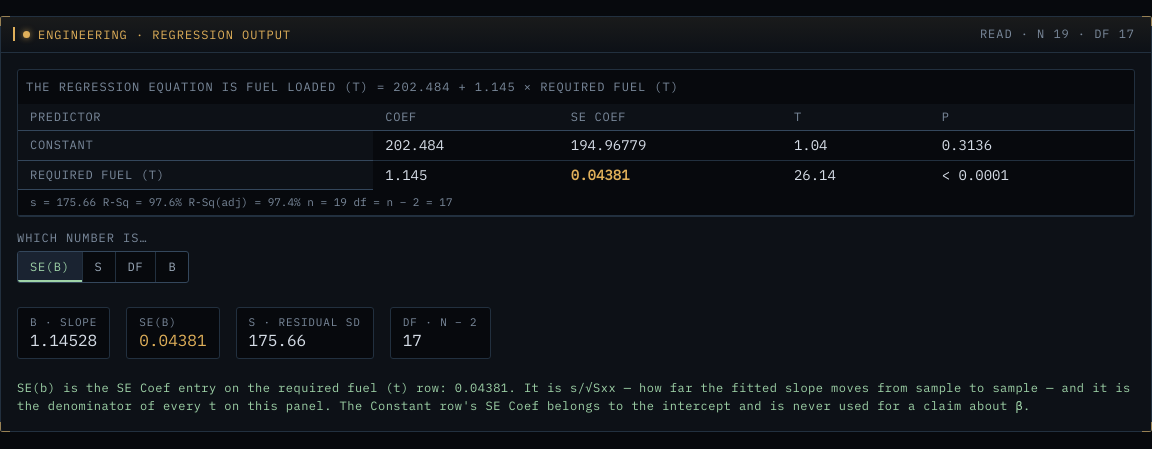
Test: <RegressionOutputPanel> › mode="read": naming a number changes what the panel says it is
This screenshot has width=1152, height=449.
Check: the element named "WHICH NUMBER IS" is shown, box [17,250,189,282]
Check: the text "SE(b) is the SE Coef entry" is shown, box [17,380,1131,413]
Click the radio button labelled "s" at (99, 266), box [83,252,116,282]
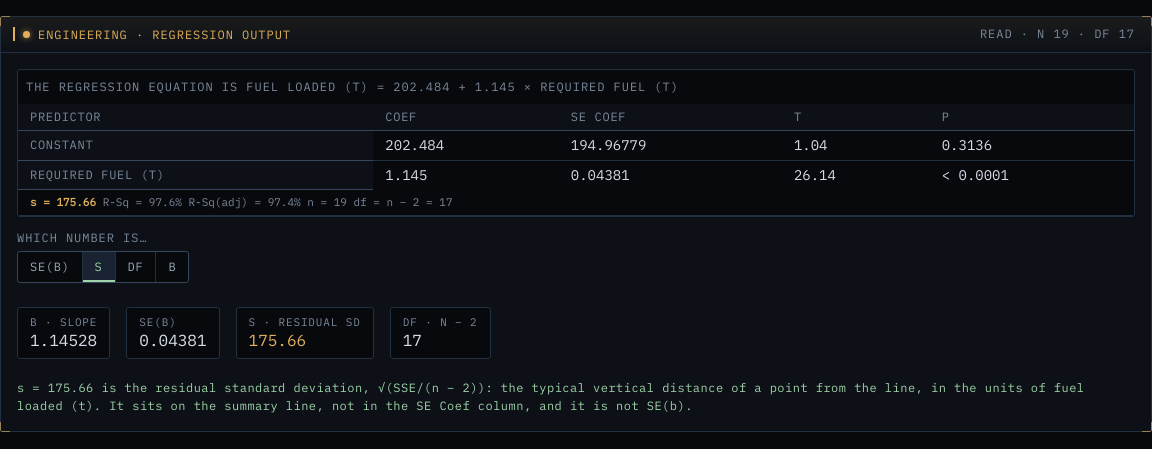
Check: the text "is the residual standard deviation" is shown, box [17,380,1085,413]
Click the radio button labelled "df" at (136, 266), box [116,252,156,282]
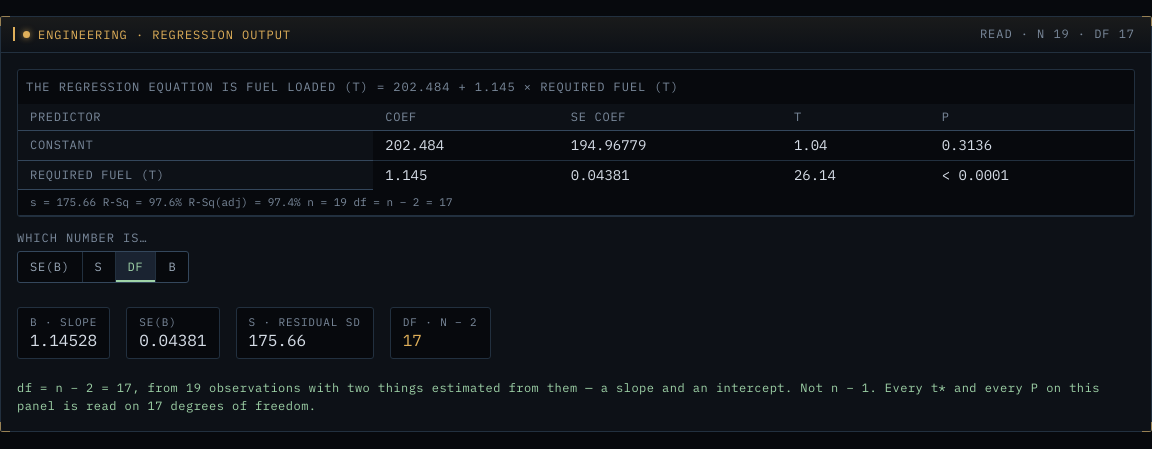
Check: the text "17" is shown, box [403,330,422,350]
Check: the text "Not n − 1" is shown, box [17,380,1100,413]
